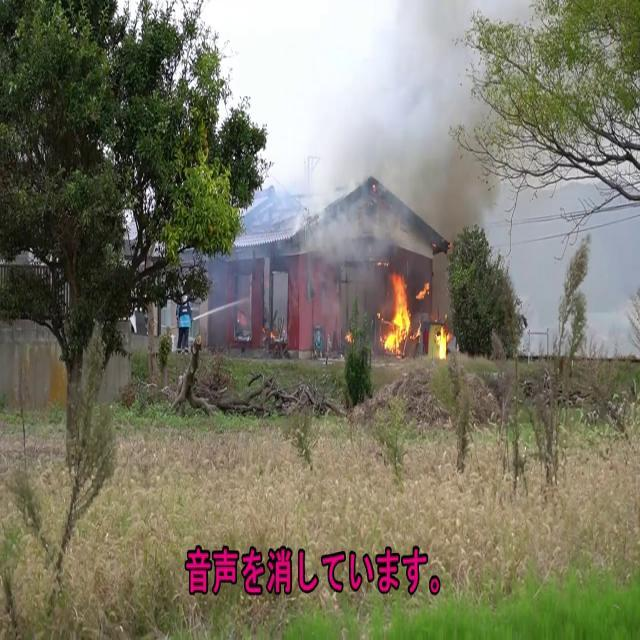Fire: (378, 266, 416, 356), (432, 318, 452, 362)
Smoke: (282, 4, 494, 268)
